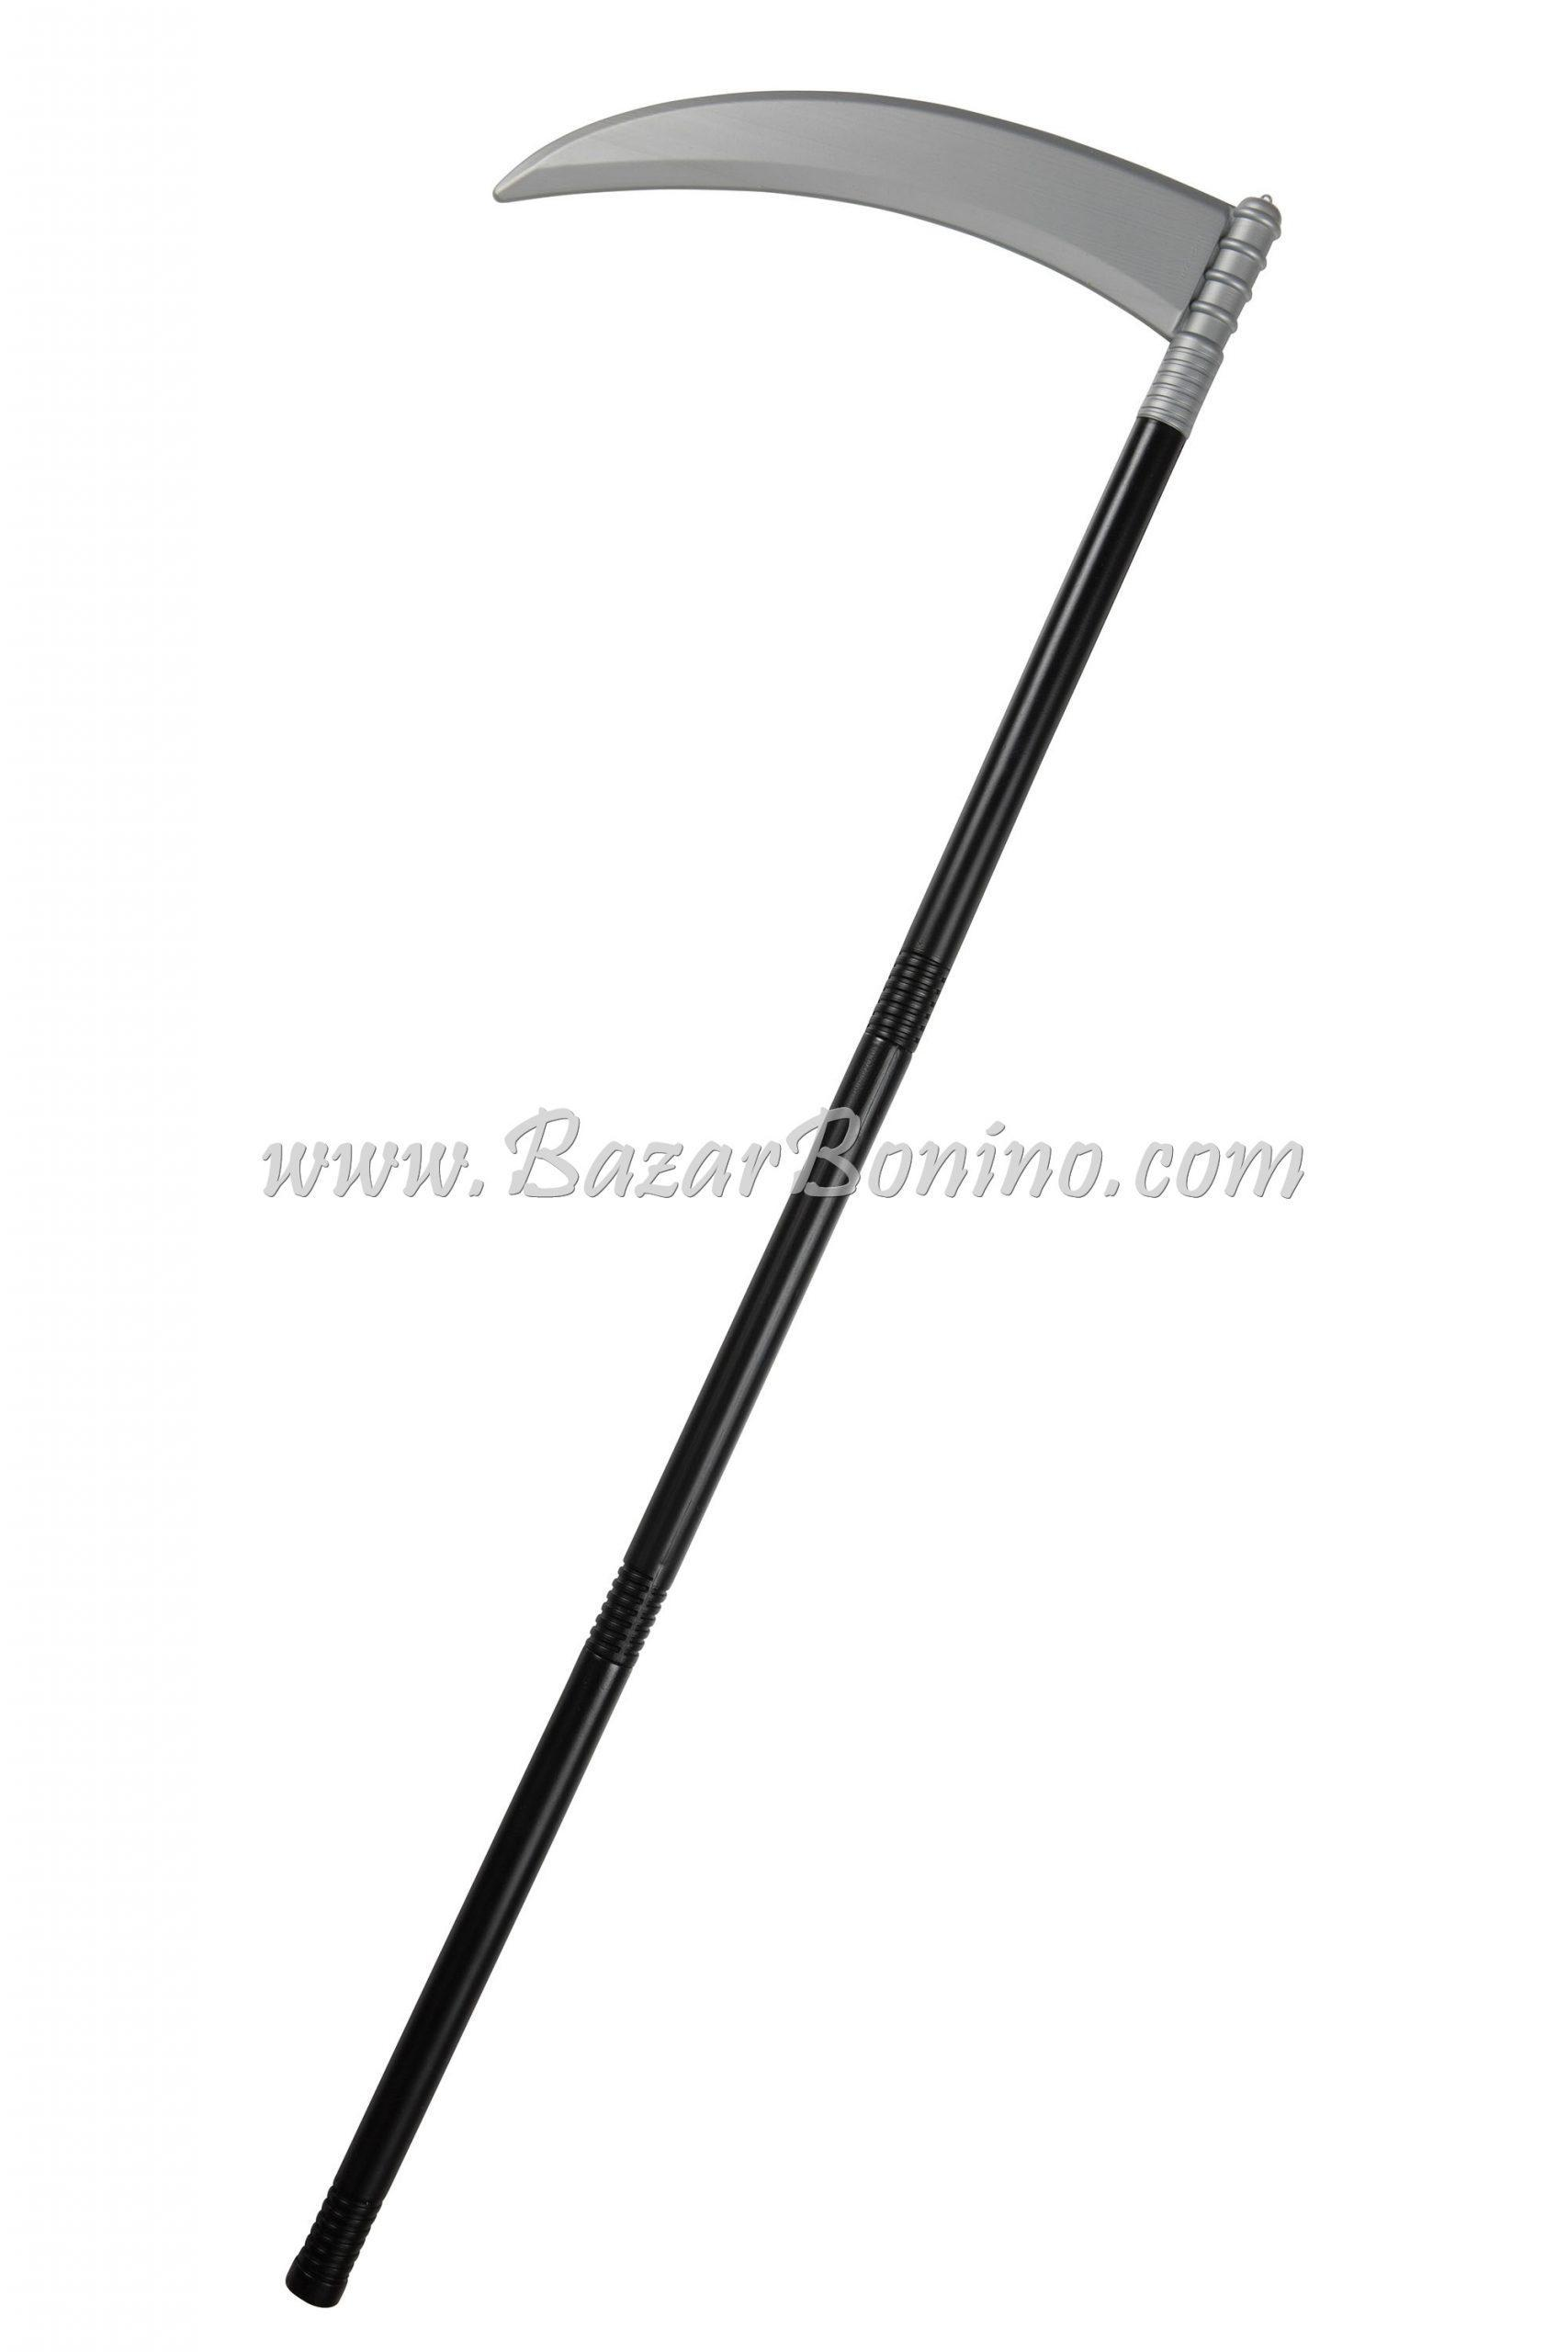foice: (289, 91, 1279, 2306)
